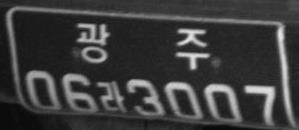0: (205, 82, 243, 123), (167, 81, 205, 120), (25, 69, 61, 110)
3: (127, 77, 166, 117)
6: (62, 72, 99, 112)
7: (244, 84, 278, 126)
광주_D: (76, 21, 211, 71)
라: (98, 80, 126, 114)
